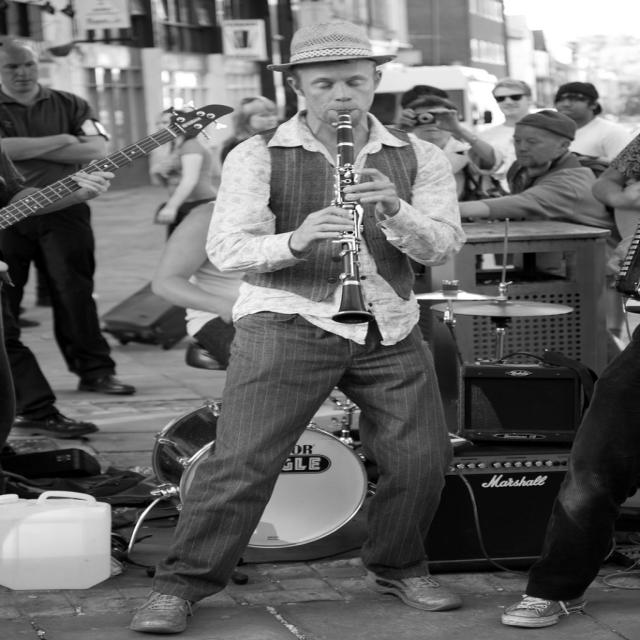clarinet: (325, 109, 380, 327)
drums: (139, 214, 581, 553)
